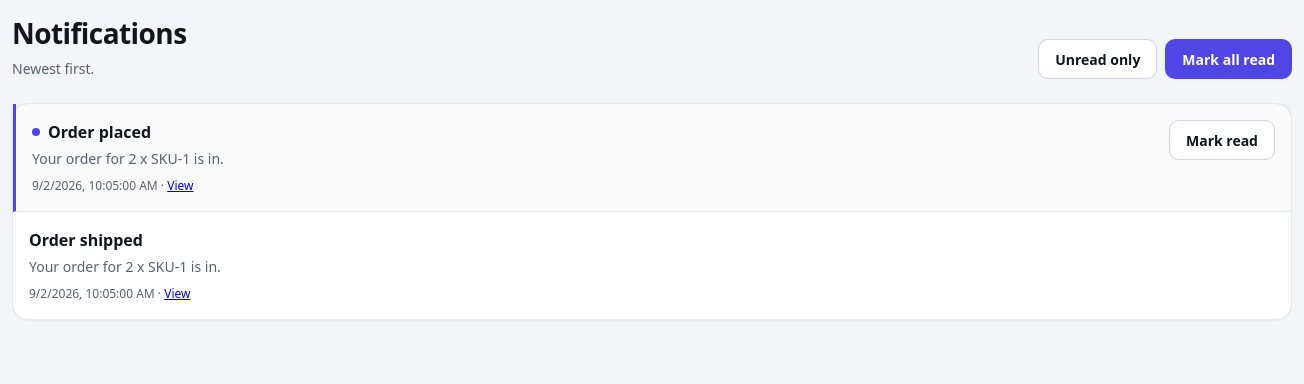
Test: NotificationList › renders the failure when mark-all fails
The width and height of the screenshot is (1304, 384).
Expected: the text "Order placed" is shown, top-left (31, 121), bottom-right (151, 154)
Step 1. Click the button "Mark all read" → (1229, 59), box top-left (1165, 39), bottom-right (1292, 79)
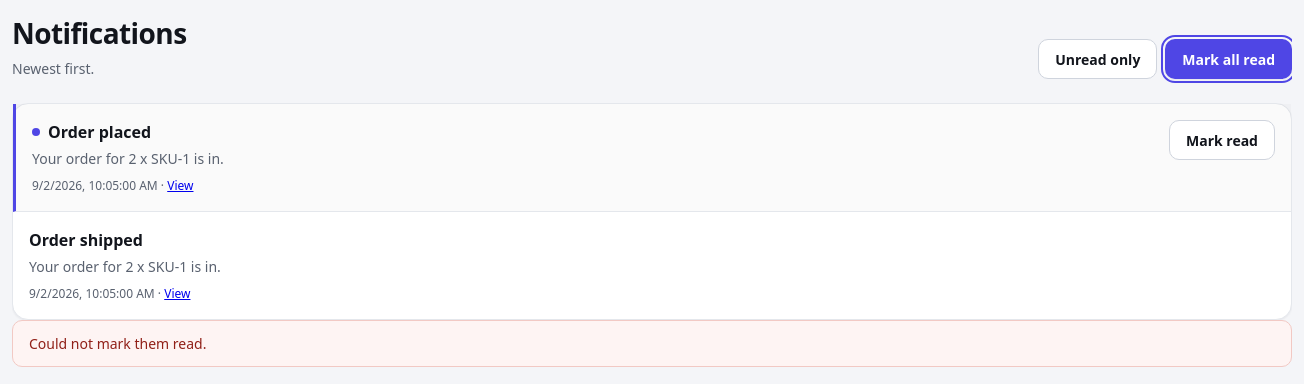
Now the message reads "Could not mark them read.", box top-left (29, 334), bottom-right (206, 353)
